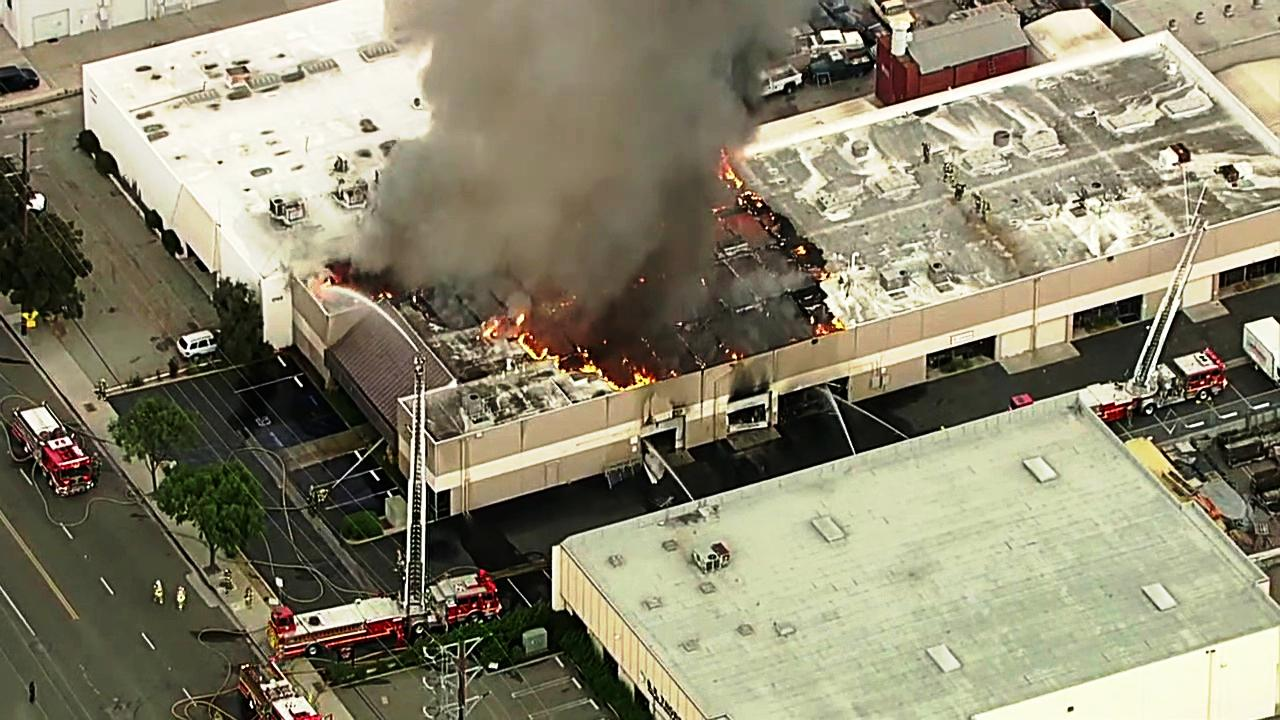smoke: (427, 0, 667, 257)
